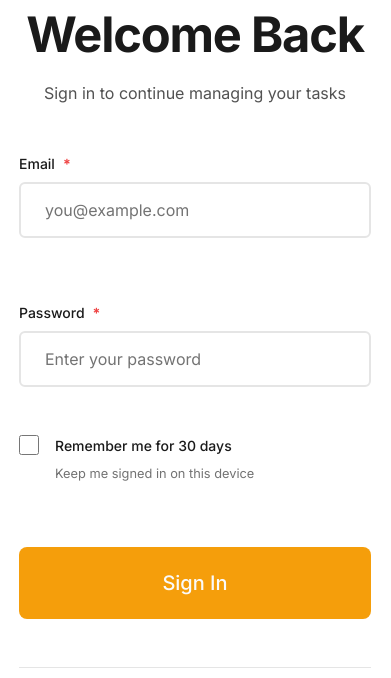
Test: Login Page › Form Validation › requires password field
Step 1. Type "test@example.com" into the field labelled "Email *" → [195, 210], box [19,182,371,238]
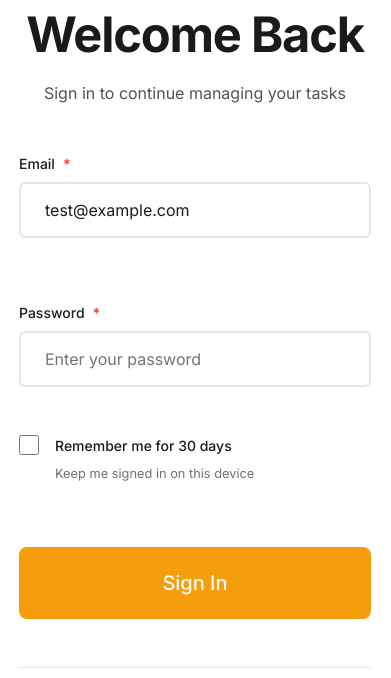
Step 2. Click the button "Sign In" → [195, 583], box [19,547,371,619]
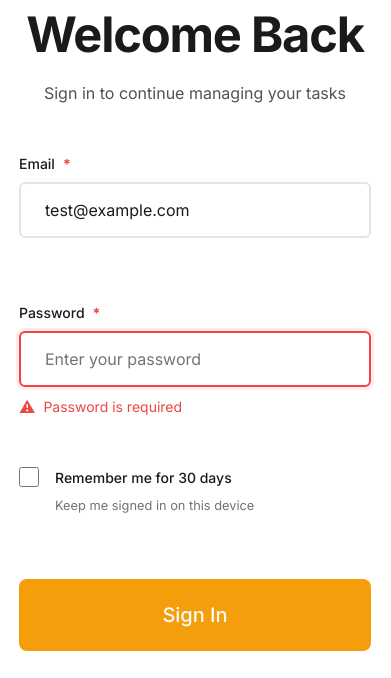
Now the text "Password is required" is shown, box [43,398,182,415]
